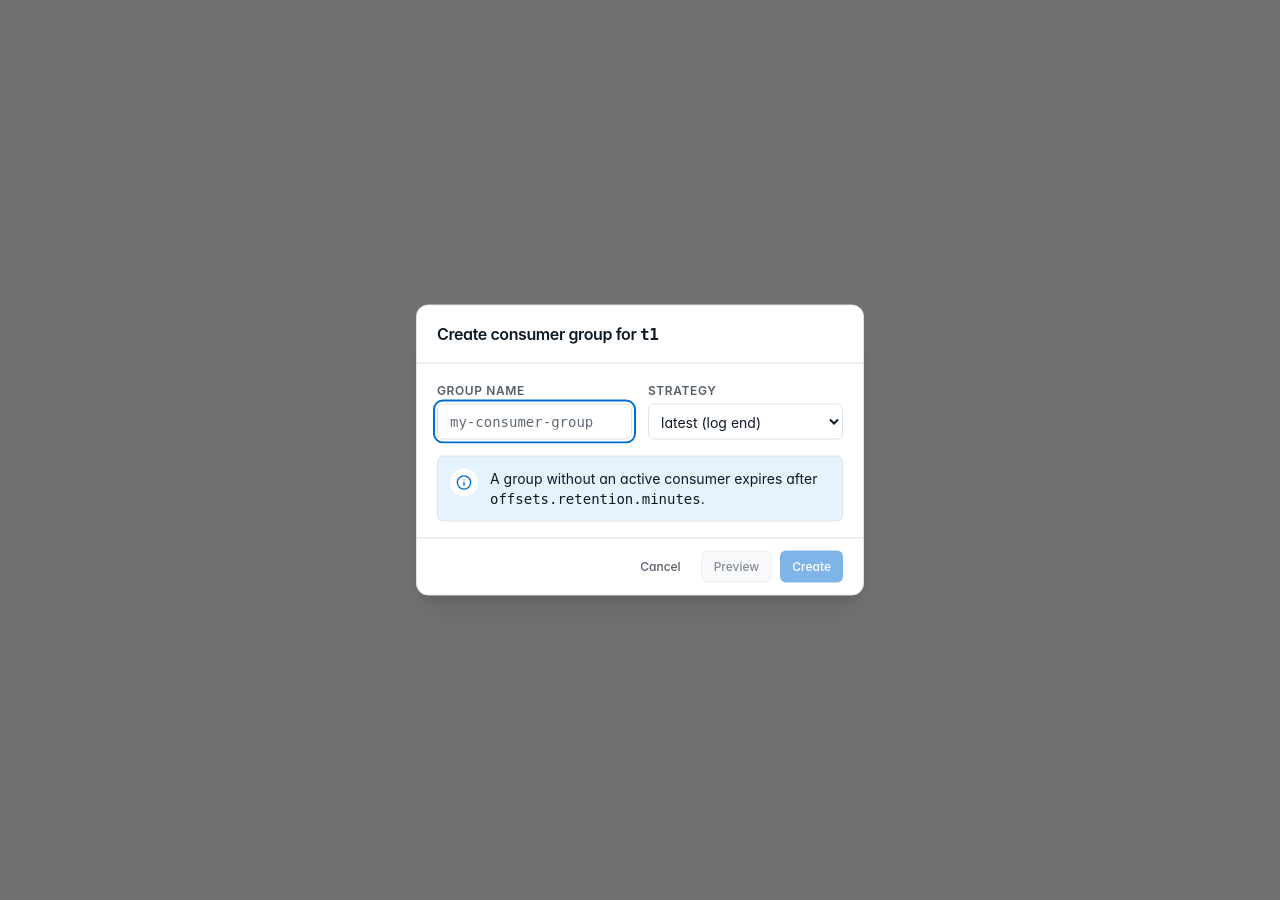
Scenario: CreateGroupModal › surfaces an error notice when the group already exists
Type "g1" into the field labelled "Group name". click: (534, 422)
box: [437,404,632,440]
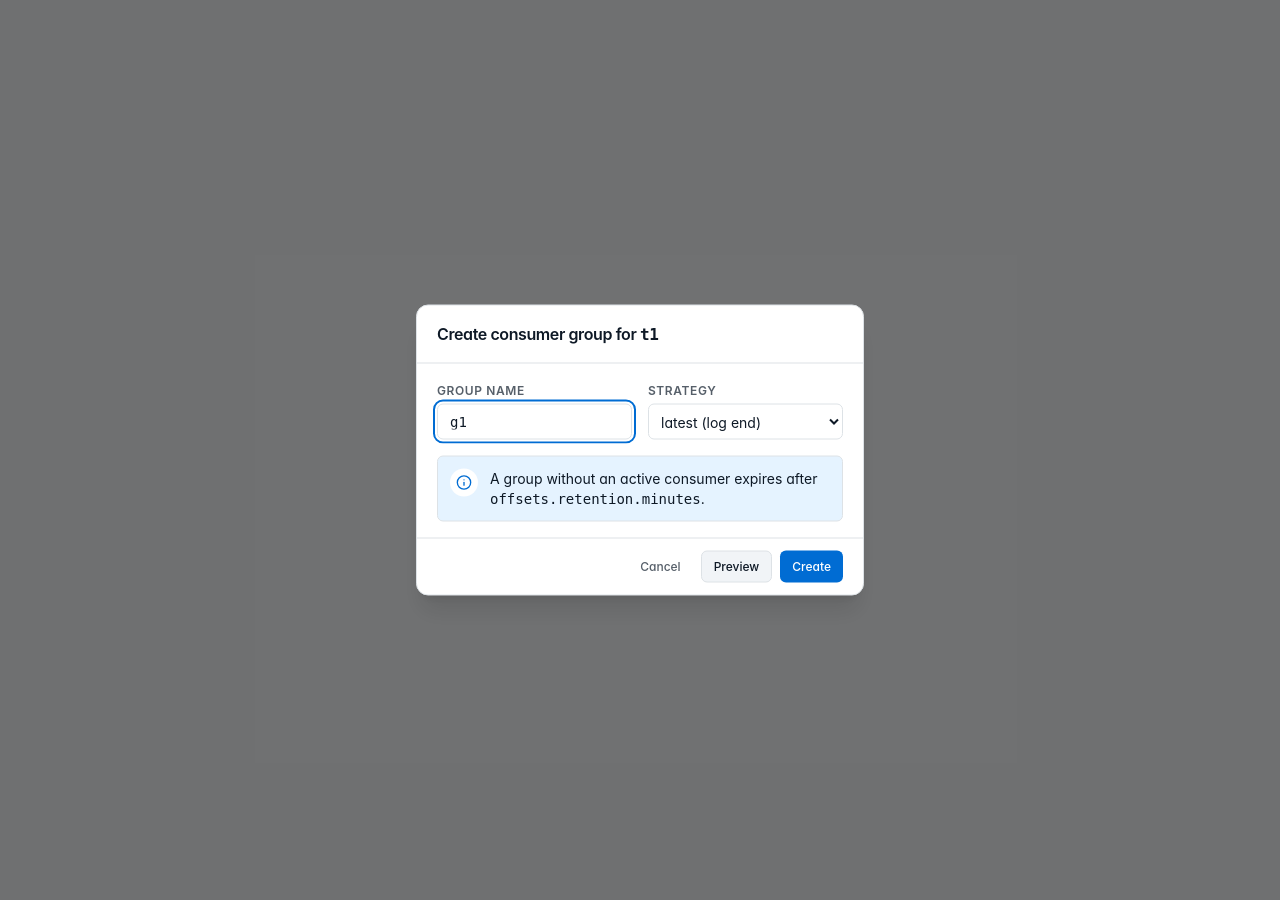
Click the button "Create". click: click(812, 566)
box: [780,550,843,582]
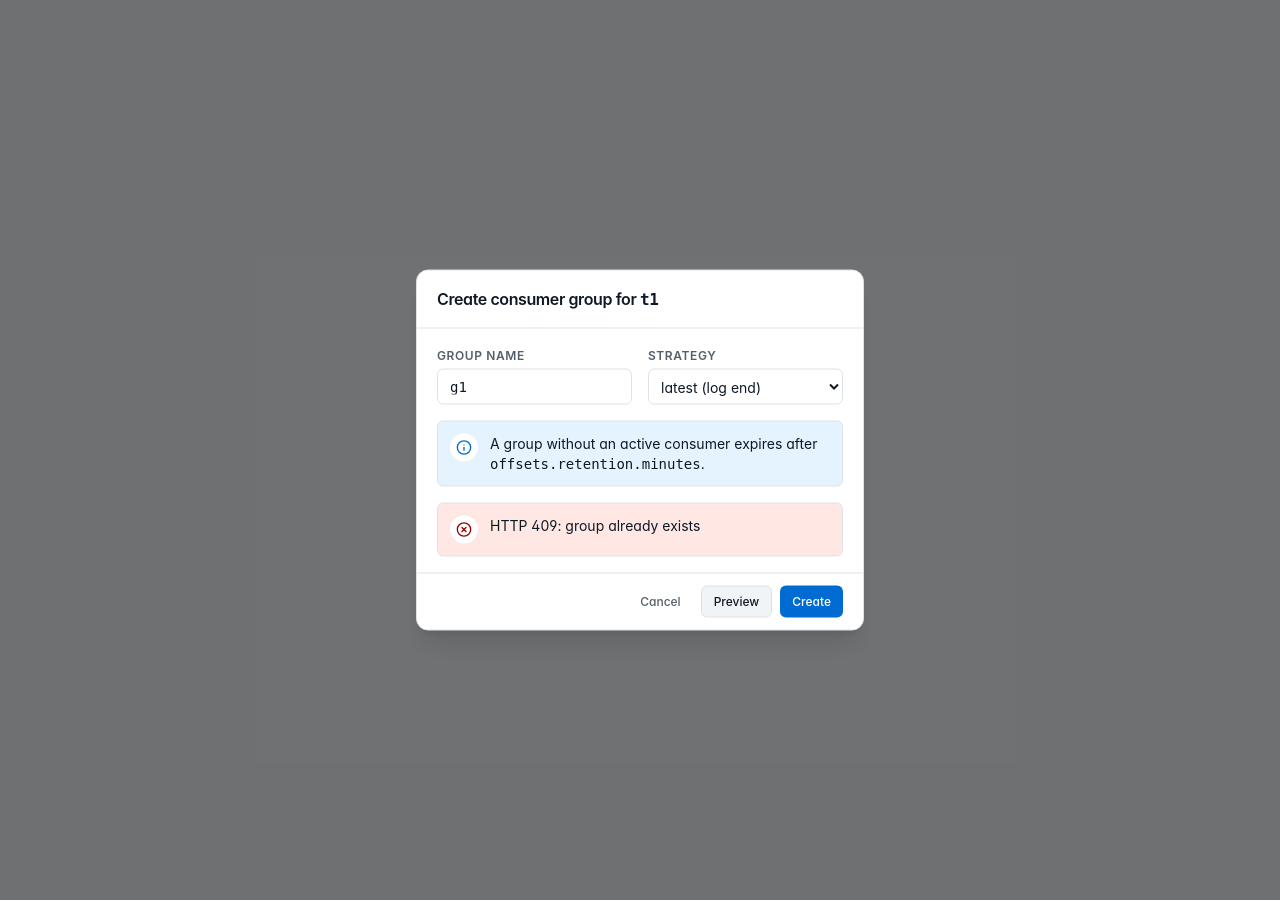
Now the text "HTTP 409: group already exists" is shown, box [490,516,700,534]
